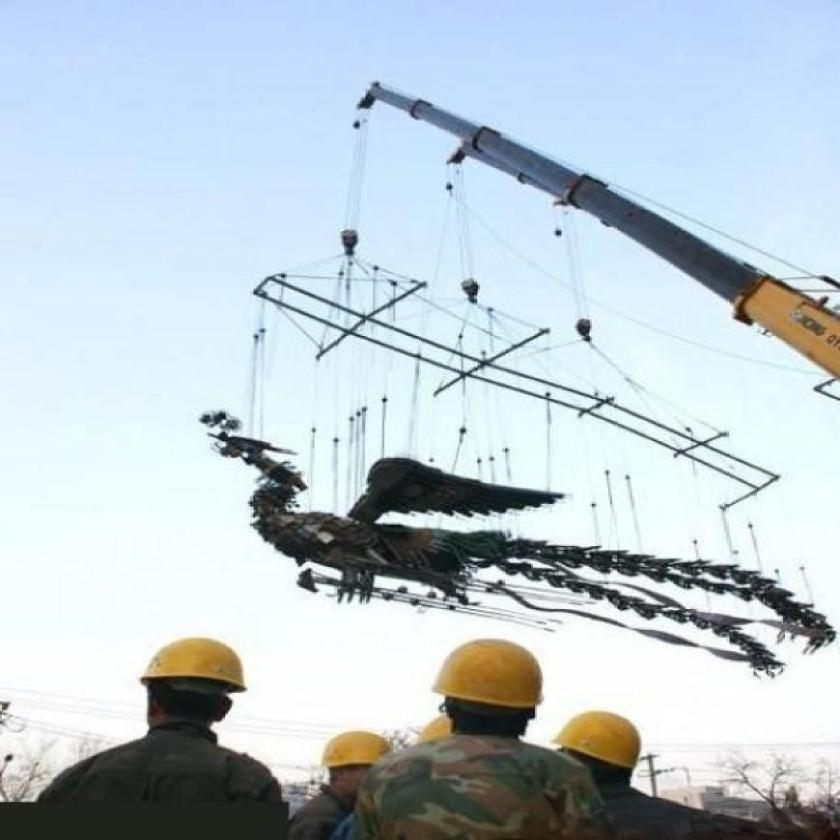Con_casco: (436, 630, 548, 740), (138, 636, 252, 741), (551, 711, 641, 797), (320, 728, 392, 809)
